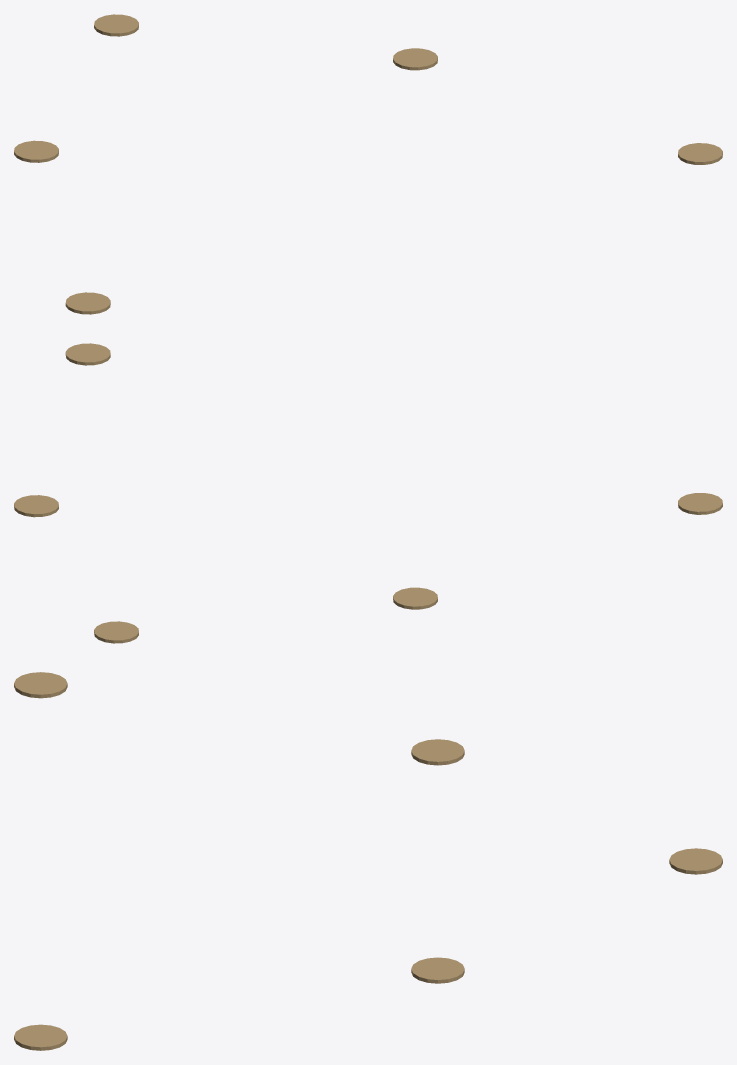
The model's file is EggPedestals_ArenaStoneDark.fbx.
The picture shows the model from 3 angles, top to bottom: view 1: azimuth 30°, elevation 25°; view 2: azimuth 150°, elevation 25°; view 3: azimuth 270°, elevation 25°; orthographic projection. The views are drawn at different scales.
Visible parts, largest first — view 1: PedestalTop0.001; view 2: PedestalTop0.001; view 3: PedestalTop0.001.
Boxes of the visible parts, <box> form: PedestalTop0.001: <box>14,14,722,314</box>; PedestalTop0.001: <box>14,343,722,643</box>; PedestalTop0.001: <box>14,672,722,1050</box>.
Bounding box in the file's own units: 8940 × 40 × 7140.
